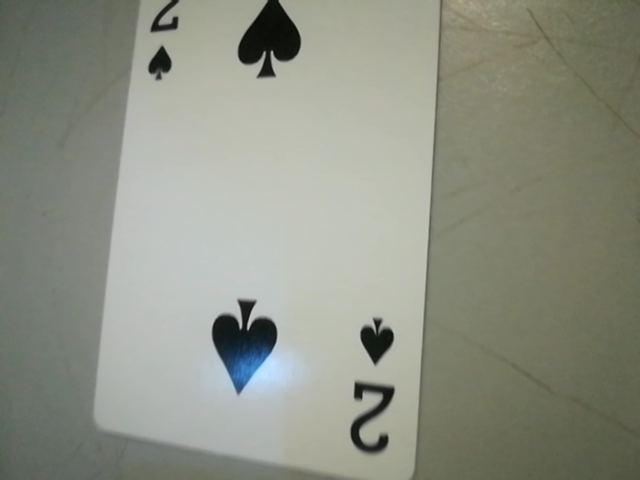ht 2: (334, 294, 414, 474)
